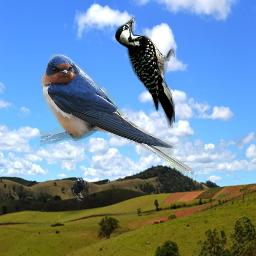Crow: (67, 176, 86, 202)
Swallow: (40, 54, 197, 179)
Woodpecker: (114, 16, 175, 128)
